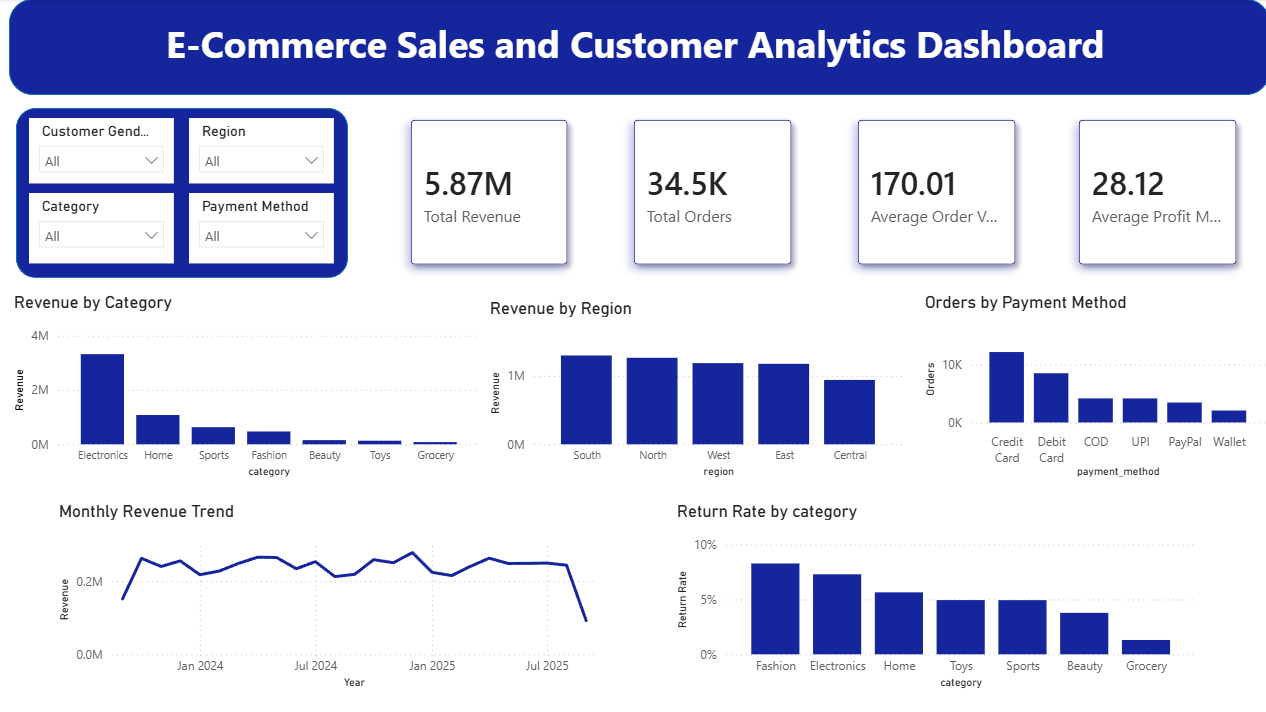

The dashboard page shown, as its layout file describes it:
{"tool":"powerbi","page":{"name":"Page 1","canvas":[1280,720],"ordinal":0},"visuals":[{"type":"cardVisual","fields":{"Data":["Sum(ecommerce_sales_cleaned.total_amount)"]},"box":[381,88.7,224.8,212.7],"z":0},{"type":"cardVisual","fields":{"Data":["Count(ecommerce_sales_cleaned.order_id)"]},"box":[605.7,88.7,225.8,212.7],"z":1000},{"type":"cardVisual","fields":{"Data":["ecommerce_sales_cleaned.Average Order Value"]},"box":[831.5,88.7,225.8,212.7],"z":2000},{"type":"cardVisual","fields":{"Data":["ecommerce_sales_cleaned.Average Profit Margin"]},"box":[1054.2,88.7,225.8,212.7],"z":3000},{"type":"clusteredColumnChart","title":"Revenue by Category","fields":{"Category":["ecommerce_sales_cleaned.category"],"Y":["Sum(ecommerce_sales_cleaned.total_amount)"]},"box":[9.1,295.3,479.7,191.5],"z":4000},{"type":"clusteredColumnChart","title":"Revenue by Region","fields":{"Category":["ecommerce_sales_cleaned.region"],"Y":["Sum(ecommerce_sales_cleaned.total_amount)"]},"box":[488.8,301.4,426.3,185.4],"z":5000},{"type":"lineChart","title":"Monthly Revenue Trend","fields":{"Category":["ecommerce_sales_cleaned.order_date.Variation.Date Hierarchy.Year","ecommerce_sales_cleaned.order_date.Variation.Date Hierarchy.Month"],"Y":["Sum(ecommerce_sales_cleaned.total_amount)"]},"box":[54.4,506,563.4,193.5],"z":6000},{"type":"clusteredColumnChart","fields":{"Category":["ecommerce_sales_cleaned.category"],"Y":["ecommerce_sales_cleaned.Return Rate"]},"box":[677.3,506,533.2,193.5],"z":7000},{"type":"clusteredColumnChart","title":"Orders by Payment Method","fields":{"Category":["ecommerce_sales_cleaned.payment_method"],"Y":["CountNonNull(ecommerce_sales_cleaned.order_id)"]},"box":[927.2,295.3,352.8,191.5],"z":8000},{"type":"shape","box":[16.1,109.9,334.6,171.3],"z":9000},{"type":"slicer","fields":{"Values":["ecommerce_sales_cleaned.category"]},"box":[29.2,195.5,146.1,70.6],"z":10000},{"type":"slicer","fields":{"Values":["ecommerce_sales_cleaned.region"]},"box":[190.5,119.9,146.1,65.5],"z":11000},{"type":"slicer","fields":{"Values":["ecommerce_sales_cleaned.payment_method"]},"box":[190.5,195.5,146.1,70.6],"z":12000},{"type":"shape","box":[9.1,0,1270.9,96.8],"z":13000},{"type":"textbox","box":[162.3,14.1,965.5,68.5],"z":14000},{"type":"slicer","fields":{"Values":["ecommerce_sales_cleaned.customer_gender"]},"box":[29.2,119.9,146.1,65.5],"z":15000}]}

Visuals, with their boxes in screenshot pixels (x1, y1, x2, y2), scaled from the page's 1280x720 canvas onto the 1266x712 screenshot:
cardVisual - Sum(ecommerce_sales_cleaned.total_amount): (left=377, top=88, right=599, bottom=298)
cardVisual - Count(ecommerce_sales_cleaned.order_id): (left=599, top=88, right=822, bottom=298)
cardVisual - ecommerce_sales_cleaned.Average Order Value: (left=822, top=88, right=1046, bottom=298)
cardVisual - ecommerce_sales_cleaned.Average Profit Margin: (left=1043, top=88, right=1265, bottom=298)
"Revenue by Category" clusteredColumnChart: (left=9, top=292, right=483, bottom=481)
"Revenue by Region" clusteredColumnChart: (left=483, top=298, right=905, bottom=481)
"Monthly Revenue Trend" lineChart: (left=54, top=500, right=611, bottom=692)
clusteredColumnChart - ecommerce_sales_cleaned.category x ecommerce_sales_cleaned.Return Rate: (left=670, top=500, right=1197, bottom=692)
"Orders by Payment Method" clusteredColumnChart: (left=917, top=292, right=1265, bottom=481)
shape: (left=16, top=109, right=347, bottom=278)
slicer - ecommerce_sales_cleaned.category: (left=29, top=193, right=173, bottom=263)
slicer - ecommerce_sales_cleaned.region: (left=188, top=119, right=333, bottom=183)
slicer - ecommerce_sales_cleaned.payment_method: (left=188, top=193, right=333, bottom=263)
shape: (left=9, top=0, right=1265, bottom=96)
textbox: (left=161, top=14, right=1115, bottom=82)
slicer - ecommerce_sales_cleaned.customer_gender: (left=29, top=119, right=173, bottom=183)
